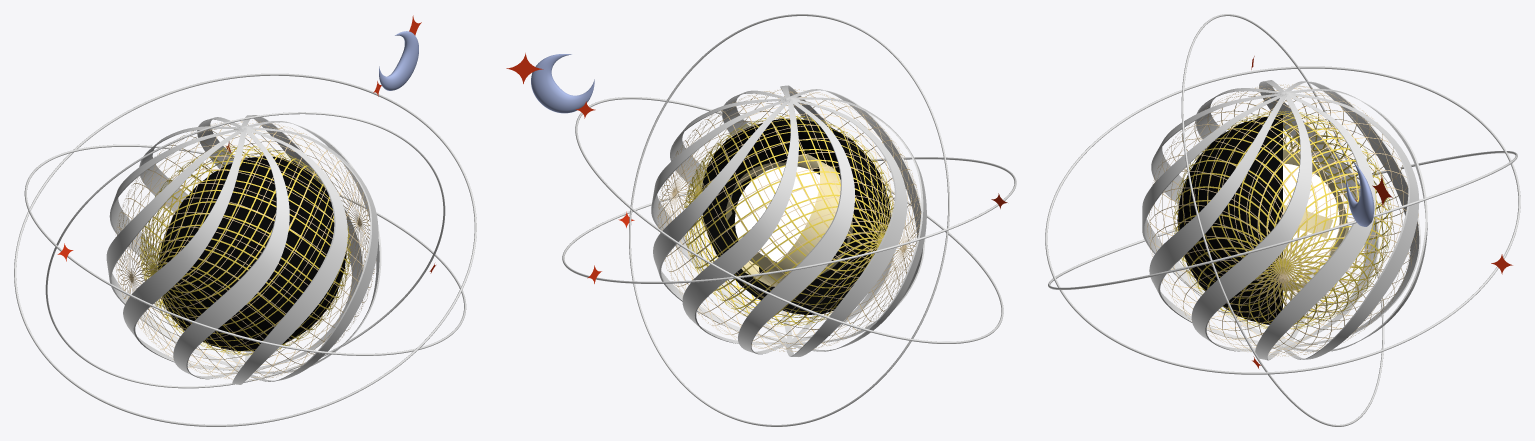
File: thoughtElement.glb
3 views of the same model, side by side, from view 1: azimuth 30°, elevation 25°; view 2: azimuth 150°, elevation 25°; view 3: azimuth 270°, elevation 25° (orthographic). The views are drawn at different scales.
Parts seen in each view (by area): view 1: OuterWave, blackOut, Net, Net.001, ring, ring.002, ring.001, moon; view 2: OuterWave, blackOut, Net, Net.001, core, ring.002, coreRing, ring, ring.001, moon, coreRing.001; view 3: OuterWave, Net.001, Net, blackOut, ring.001, core, ring.002, ring, moon, coreRing, coreRing.001.
Boxes of the visible parts, box(x1,y1,x2,y2) form: OuterWave: box(106, 115, 381, 384); blackOut: box(158, 156, 346, 351); Net: box(115, 120, 376, 380); Net.001: box(140, 145, 350, 355); ring: box(14, 73, 476, 426); ring.002: box(45, 112, 445, 388); ring.001: box(24, 144, 466, 355); moon: box(379, 31, 418, 90); OuterWave: box(651, 85, 926, 356); blackOut: box(702, 118, 890, 314); Net: box(657, 89, 921, 351); Net.001: box(684, 115, 893, 325); core: box(735, 166, 819, 262); ring.002: box(629, 14, 949, 426); coreRing: box(741, 154, 840, 286); ring: box(575, 97, 1003, 343); ring.001: box(562, 157, 1016, 283); moon: box(531, 54, 594, 113); coreRing.001: box(725, 162, 852, 273); OuterWave: box(1142, 80, 1427, 360); Net.001: box(1173, 111, 1392, 329); Net: box(1147, 84, 1418, 356); blackOut: box(1177, 115, 1282, 324); ring.001: box(1045, 66, 1520, 374); core: box(1283, 163, 1339, 276); ring.002: box(1181, 14, 1384, 426); ring: box(1048, 151, 1517, 290); moon: box(1345, 162, 1374, 226); coreRing: box(1283, 150, 1347, 290); coreRing.001: box(1283, 205, 1349, 247).
Size of the model in its own units: 6.88 by 5.17 by 6.28.
